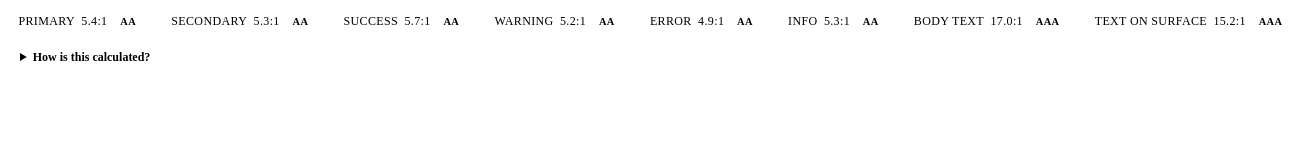
Test: ContrastReport › shows the compared text and background colors when a check is clicked
Click the button with class "contrast-check__trigger" showing "Primary 5.4:1 AA" at (80, 21), box x1=8 y1=8 x2=153 y2=34
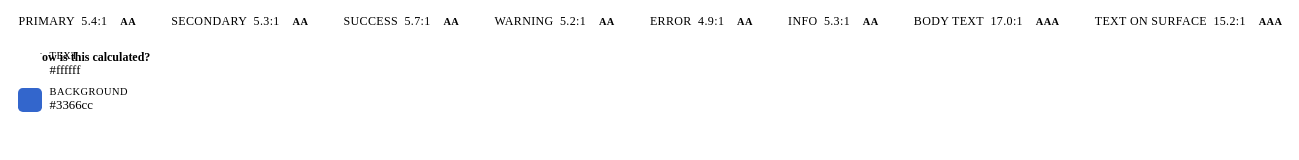
Expected: the element with class "contrast-check__popover" shows "#ffffff", x1=50 y1=63 x2=80 y2=77
Expected: the element with class "contrast-check__popover" shows "#3366cc", x1=50 y1=98 x2=93 y2=112
